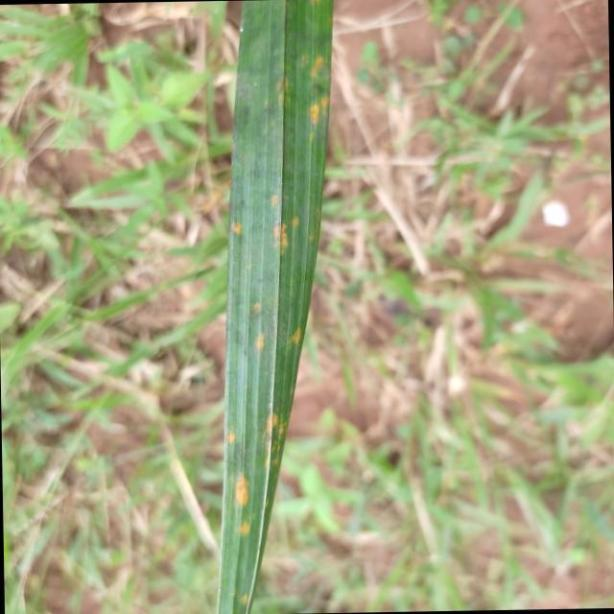Kalium: (214, 0, 334, 614)
